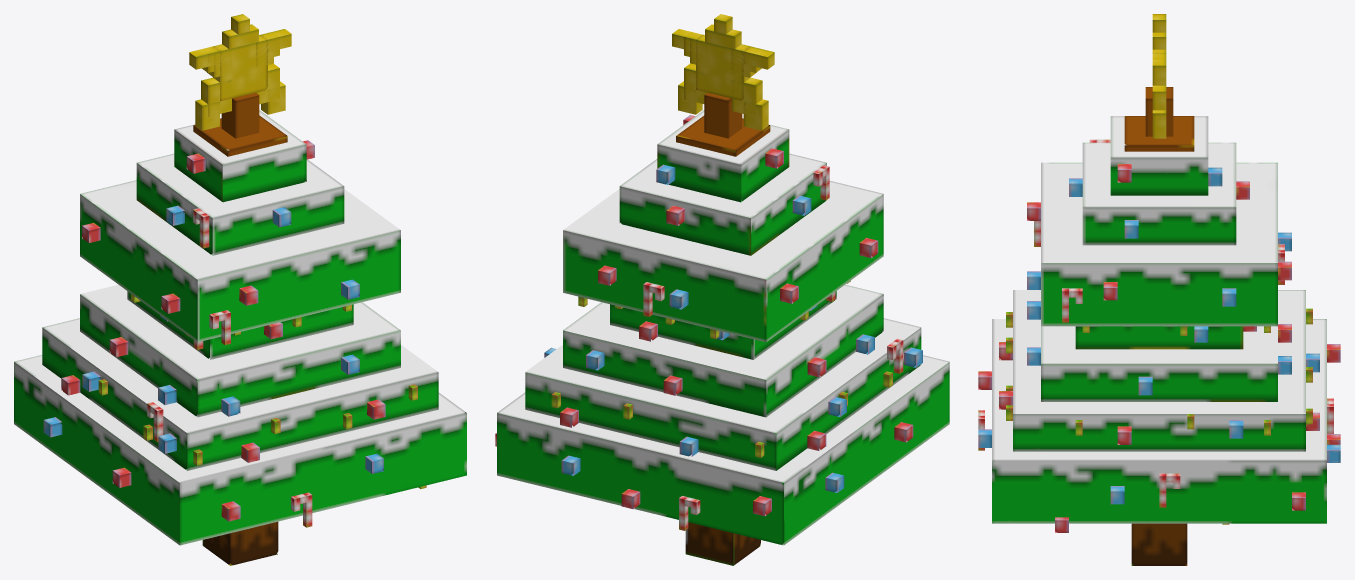
File: ChrismesTree.fbx
3 views of the same model, side by side, from view 1: azimuth 30°, elevation 25°; view 2: azimuth 150°, elevation 25°; view 3: azimuth 270°, elevation 25° (orthographic).
Visible parts, largest first — view 1: cube, cube_4, cube_1, cube_2, cube_5, cube_6, cube_3, cube_7, Trunk, Plate, Holder, cube_8 (+4 smaller); view 2: cube, cube_4, cube_1, cube_2, cube_5, cube_6, cube_3, cube_7, Trunk, Plate, Holder, cube_8 (+4 smaller); view 3: cube, cube_4, cube_1, cube_2, cube_5, cube_6, cube_3, Trunk, Plate, Holder.
Part boxes in pixels (left/top/right/bottom): cube: left=14, top=355, right=466, bottom=545; cube_4: left=80, top=180, right=400, bottom=342; cube_1: left=42, top=318, right=438, bottom=470; cube_2: left=80, top=284, right=400, bottom=417; cube_5: left=136, top=153, right=344, bottom=255; cube_6: left=174, top=110, right=306, bottom=202; cube_3: left=127, top=291, right=353, bottom=359; cube_7: left=213, top=34, right=267, bottom=101; Trunk: left=202, top=521, right=278, bottom=565; Plate: left=193, top=115, right=287, bottom=156; Holder: left=221, top=92, right=259, bottom=138; cube_8: left=201, top=77, right=231, bottom=116; cube: left=497, top=355, right=949, bottom=545; cube_4: left=563, top=181, right=883, bottom=342; cube_1: left=525, top=318, right=921, bottom=470; cube_2: left=563, top=284, right=883, bottom=417; cube_5: left=619, top=153, right=826, bottom=255; cube_6: left=657, top=110, right=789, bottom=202; cube_3: left=610, top=291, right=836, bottom=359; cube_7: left=696, top=34, right=750, bottom=100; Trunk: left=685, top=522, right=760, bottom=565; Plate: left=676, top=115, right=770, bottom=156; Holder: left=704, top=93, right=742, bottom=138; cube_8: left=731, top=77, right=762, bottom=116; cube: left=992, top=319, right=1326, bottom=523; cube_4: left=1041, top=162, right=1277, bottom=326; cube_1: left=1013, top=290, right=1305, bottom=451; cube_2: left=1041, top=326, right=1277, bottom=401; cube_5: left=1082, top=142, right=1236, bottom=245; cube_6: left=1110, top=116, right=1208, bottom=195; cube_3: left=1075, top=326, right=1243, bottom=349; Trunk: left=1131, top=523, right=1187, bottom=565; Plate: left=1124, top=116, right=1194, bottom=151; Holder: left=1145, top=87, right=1173, bottom=136.
Size of the model in its own units: 325 by 531 by 325.
